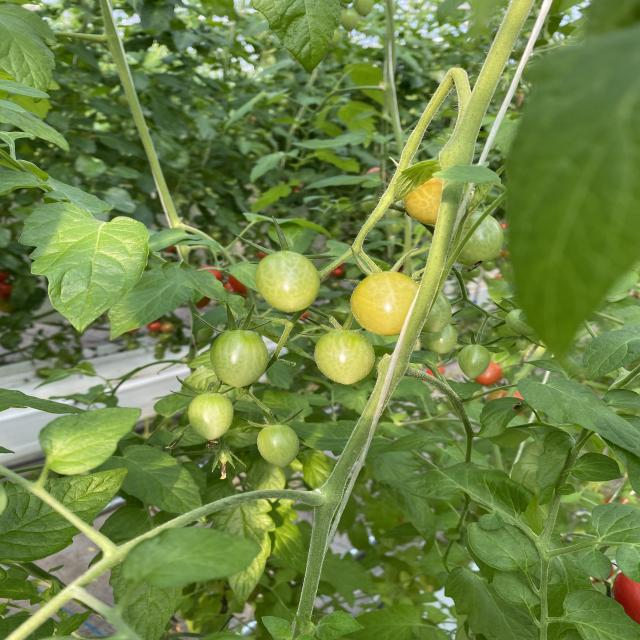yesil: (161, 222, 480, 492)
